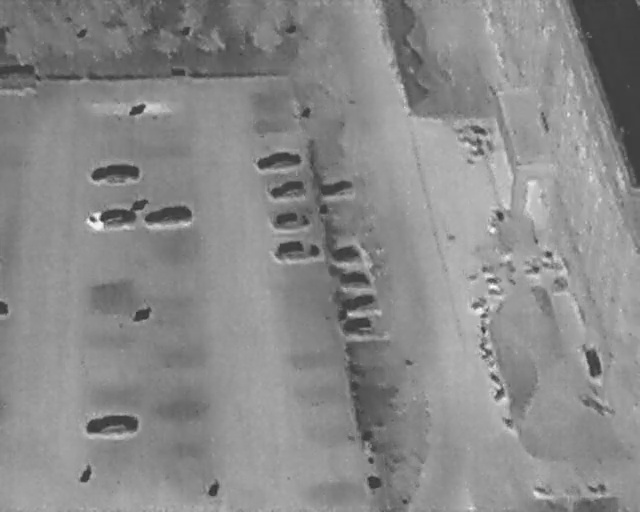Car: (272, 237, 321, 263), (143, 202, 192, 227), (89, 163, 141, 185), (86, 415, 138, 436), (87, 209, 136, 231), (255, 149, 301, 171), (340, 314, 381, 336), (268, 179, 308, 200), (342, 291, 379, 312), (272, 210, 310, 229), (320, 178, 354, 199), (331, 245, 363, 263), (341, 271, 372, 289), (0, 300, 8, 317)
